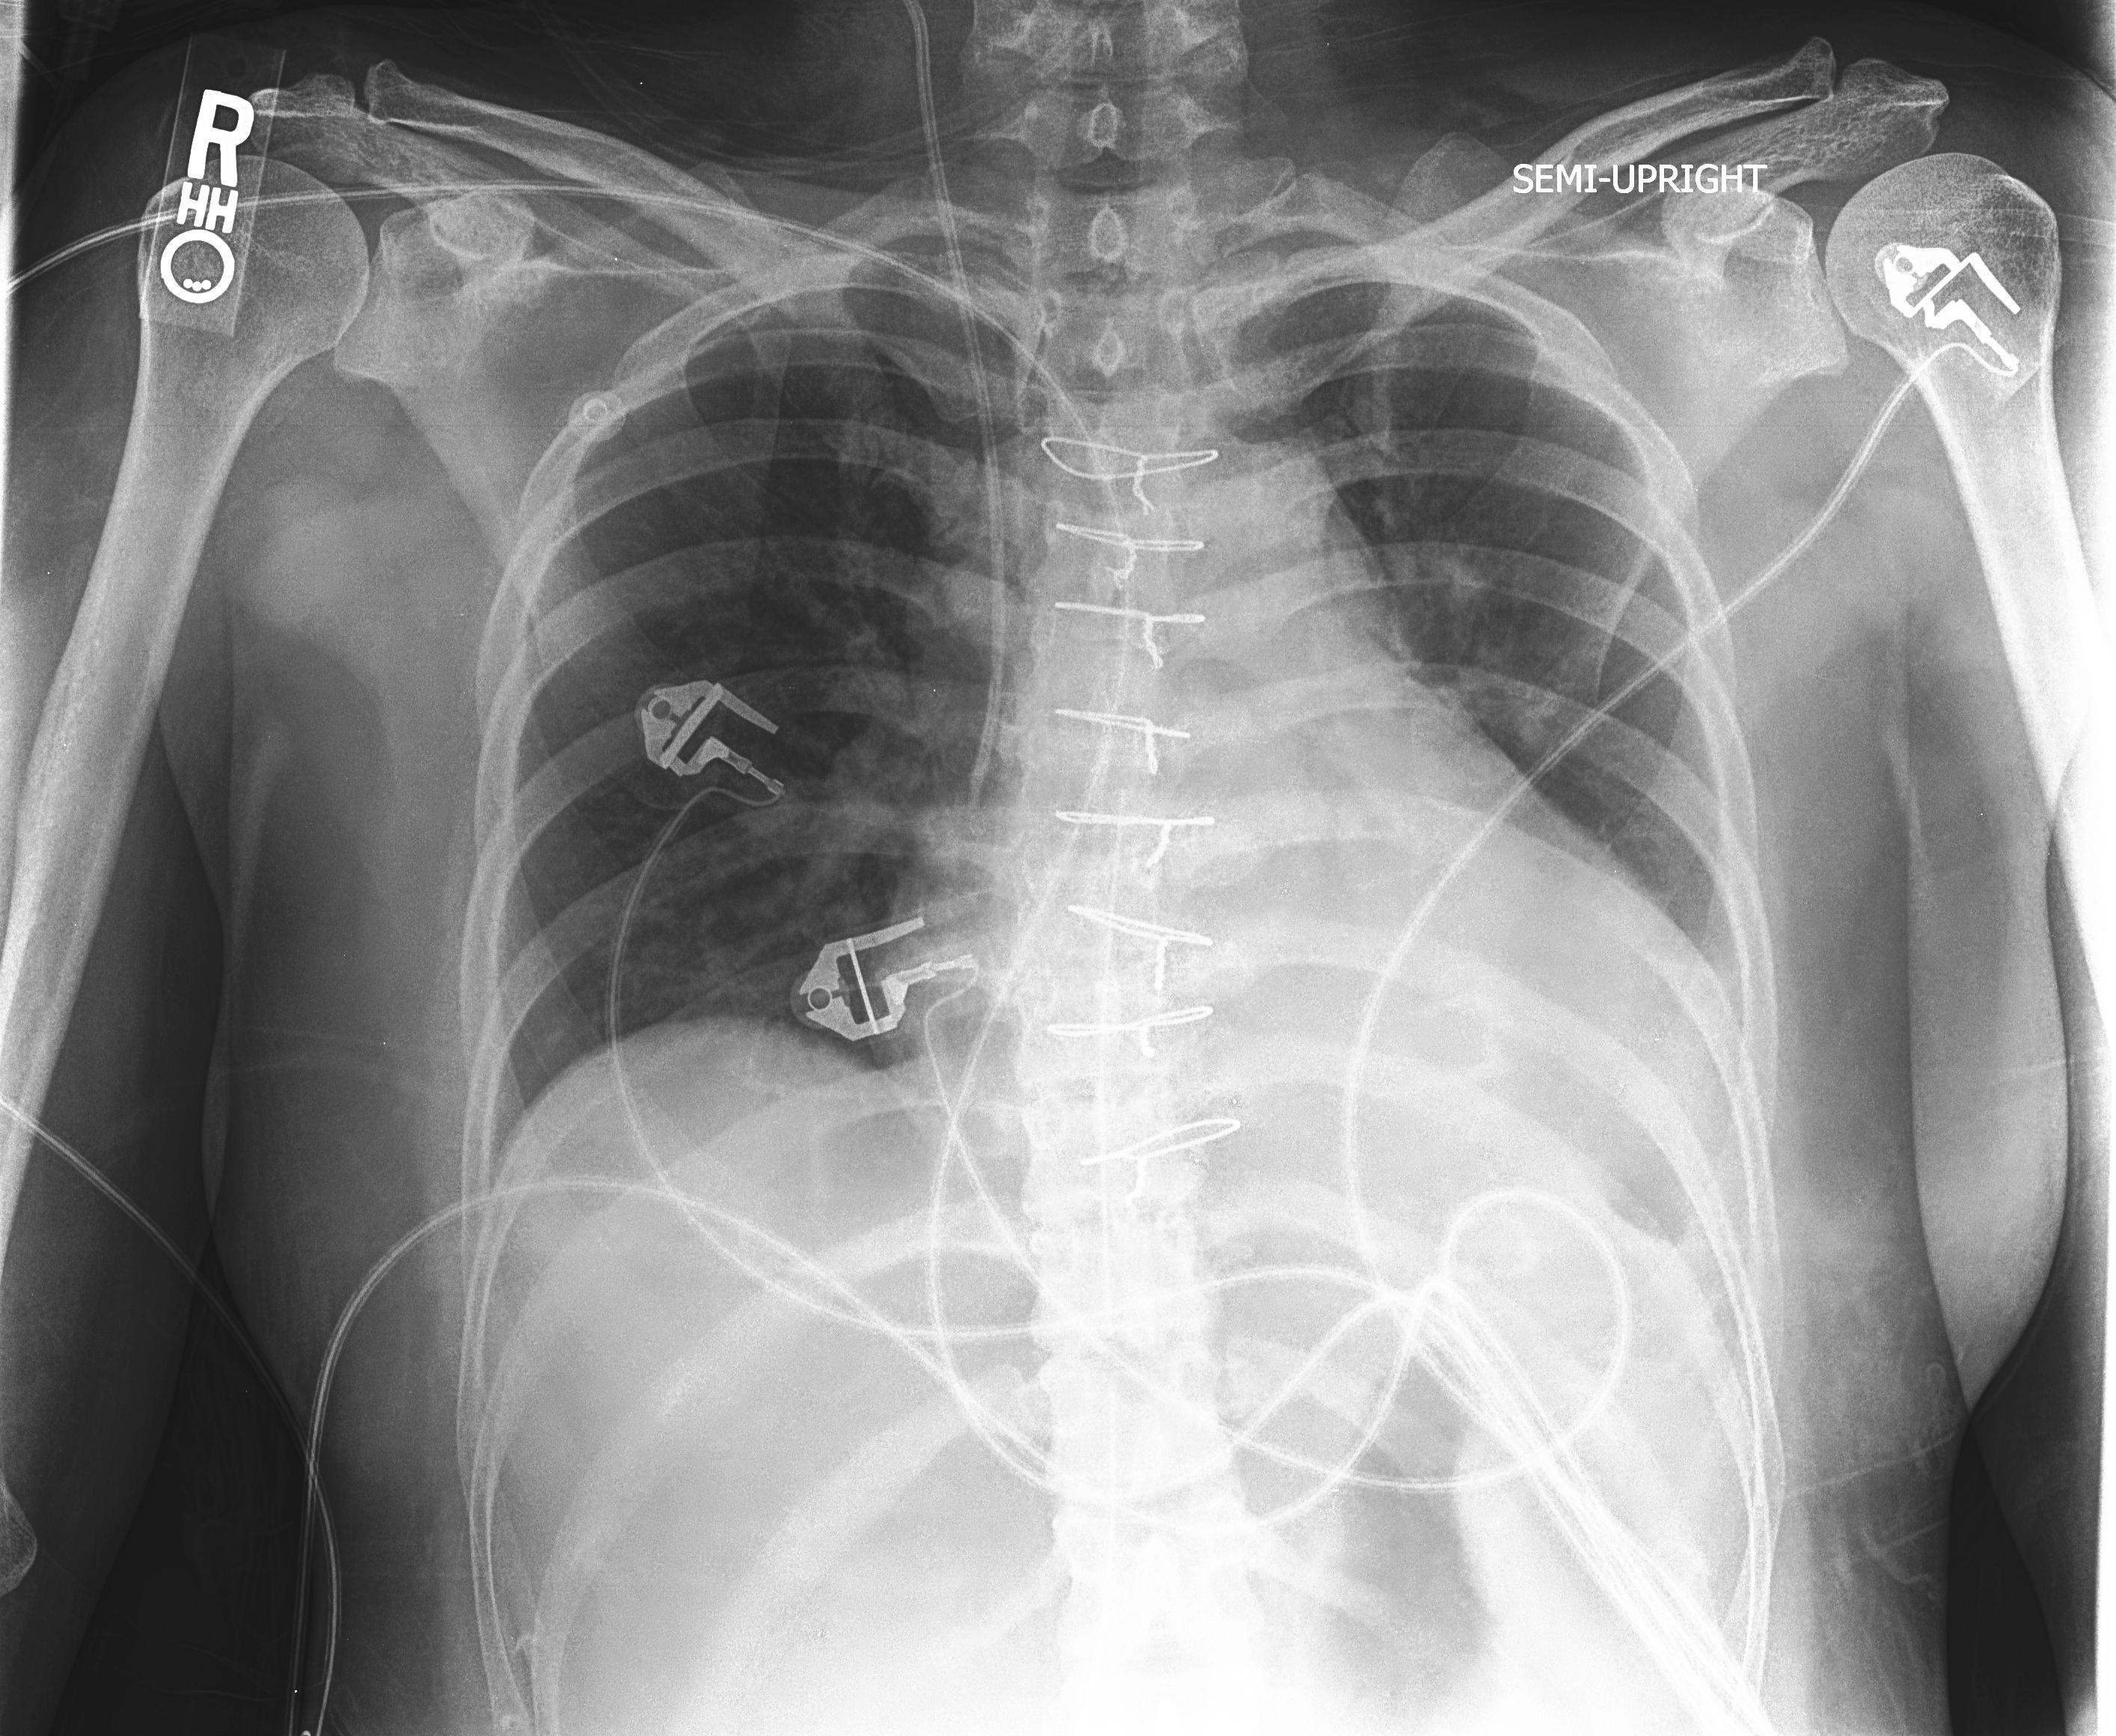Pleural Effusion: (1471, 908, 1787, 1397)
